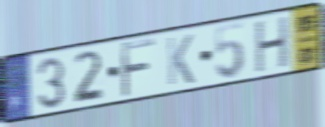2: (73, 48, 106, 107)
3: (34, 54, 67, 110)
5: (214, 20, 248, 82)
F: (119, 37, 157, 101)
H: (254, 13, 291, 76)
K: (165, 33, 196, 88)
